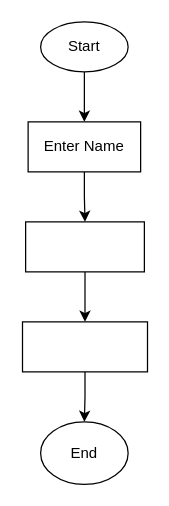
Image size: 169x506. Some labels were removed from this diagram. Here are the shapes that lost their labels. From the top down, the centre of each, then its label:
point 84,246: Enter Item Purchased
point 84,346: Display Welcome Message
